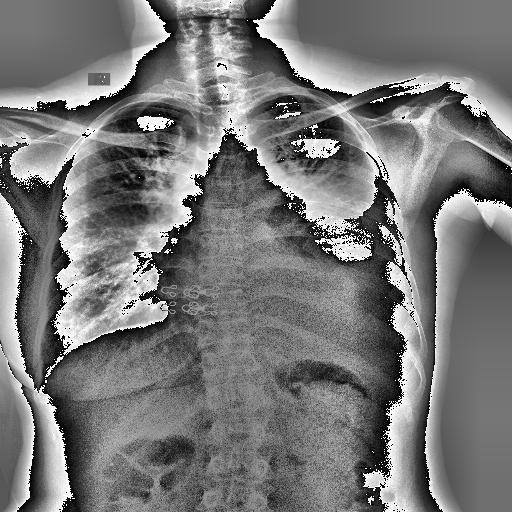0- Aortic enlargement: (223, 145, 285, 210)
10- Pleural effusion: (302, 150, 424, 348), (290, 186, 404, 354), (292, 183, 404, 331)
3- Cardiomegaly: (158, 250, 358, 320), (156, 262, 360, 318)
7- Lung Opacity: (42, 179, 158, 362), (255, 162, 376, 264), (302, 149, 384, 258), (308, 202, 384, 264)
